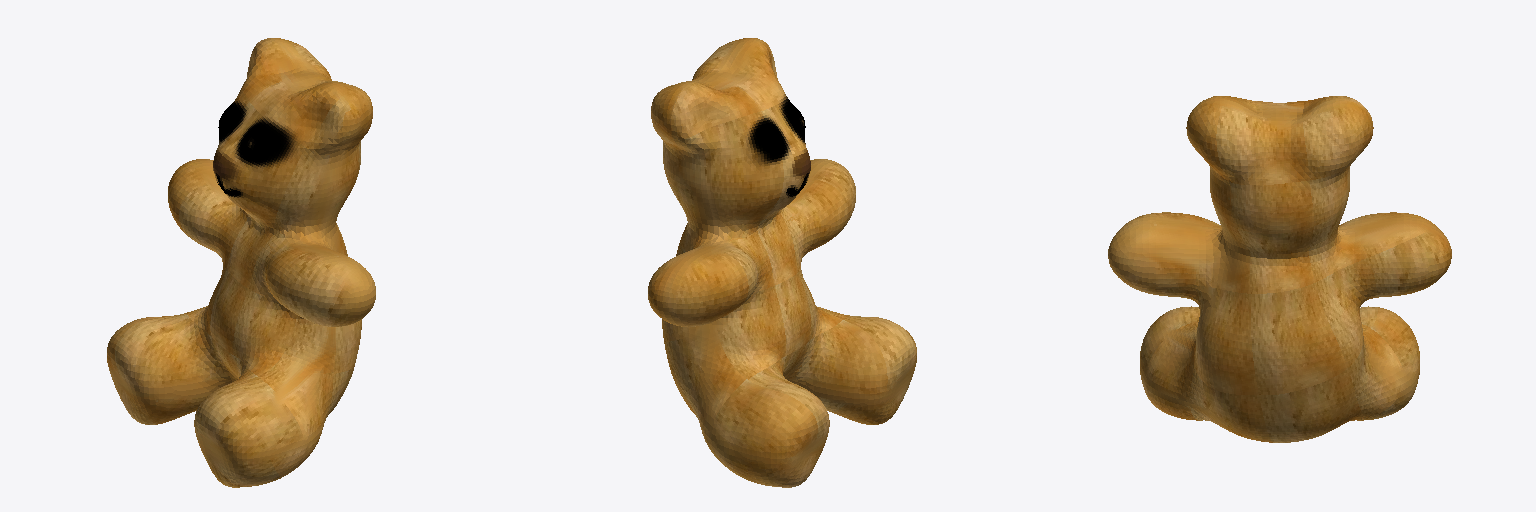
3 renders of one model, left to right at view 1: azimuth 30°, elevation 25°; view 2: azimuth 150°, elevation 25°; view 3: azimuth 270°, elevation 25°, orthographic.
Parts seen in each view (by area): view 1: Sphere_Sphere.001; view 2: Sphere_Sphere.001; view 3: Sphere_Sphere.001.
Boxes of the visible parts, box(x1,y1,x2,y2) form: Sphere_Sphere.001: box(107, 38, 375, 487); Sphere_Sphere.001: box(648, 38, 916, 487); Sphere_Sphere.001: box(1108, 96, 1451, 442).
Size of the model in its own units: 3.12 by 5.66 by 4.87.
Materials: 1 (1 with a texture image).